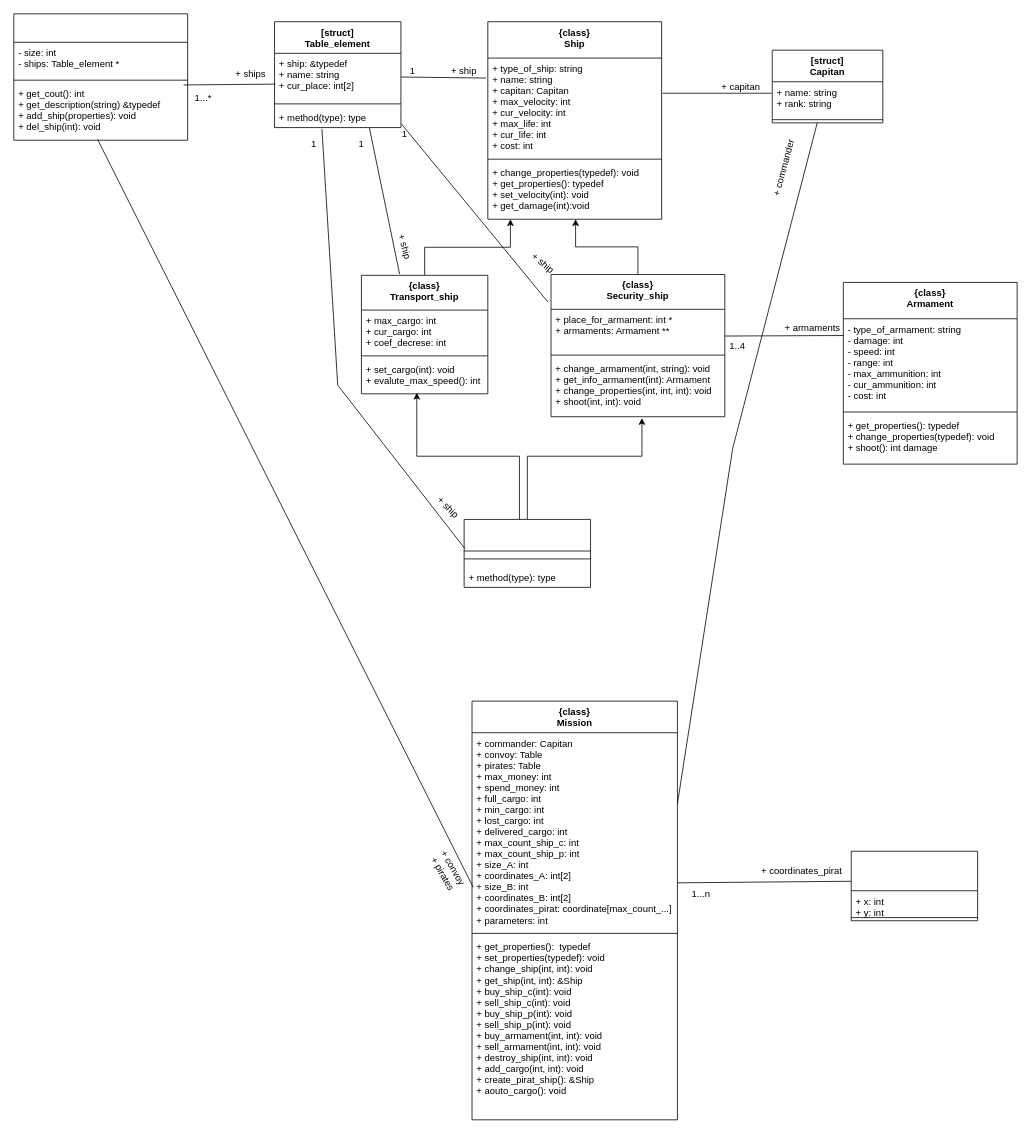
This 1031x1136 diagram has some shape labels left out. The shapes that lost their labels are listed below. From the top down, each one's box as (x1, y1, x2, y2) in pixels, then its label:
(13, 13, 188, 140): {class} Table
(463, 519, 591, 587): {class} Militari_transport_ship
(850, 850, 978, 921): [struct] Coordinate
